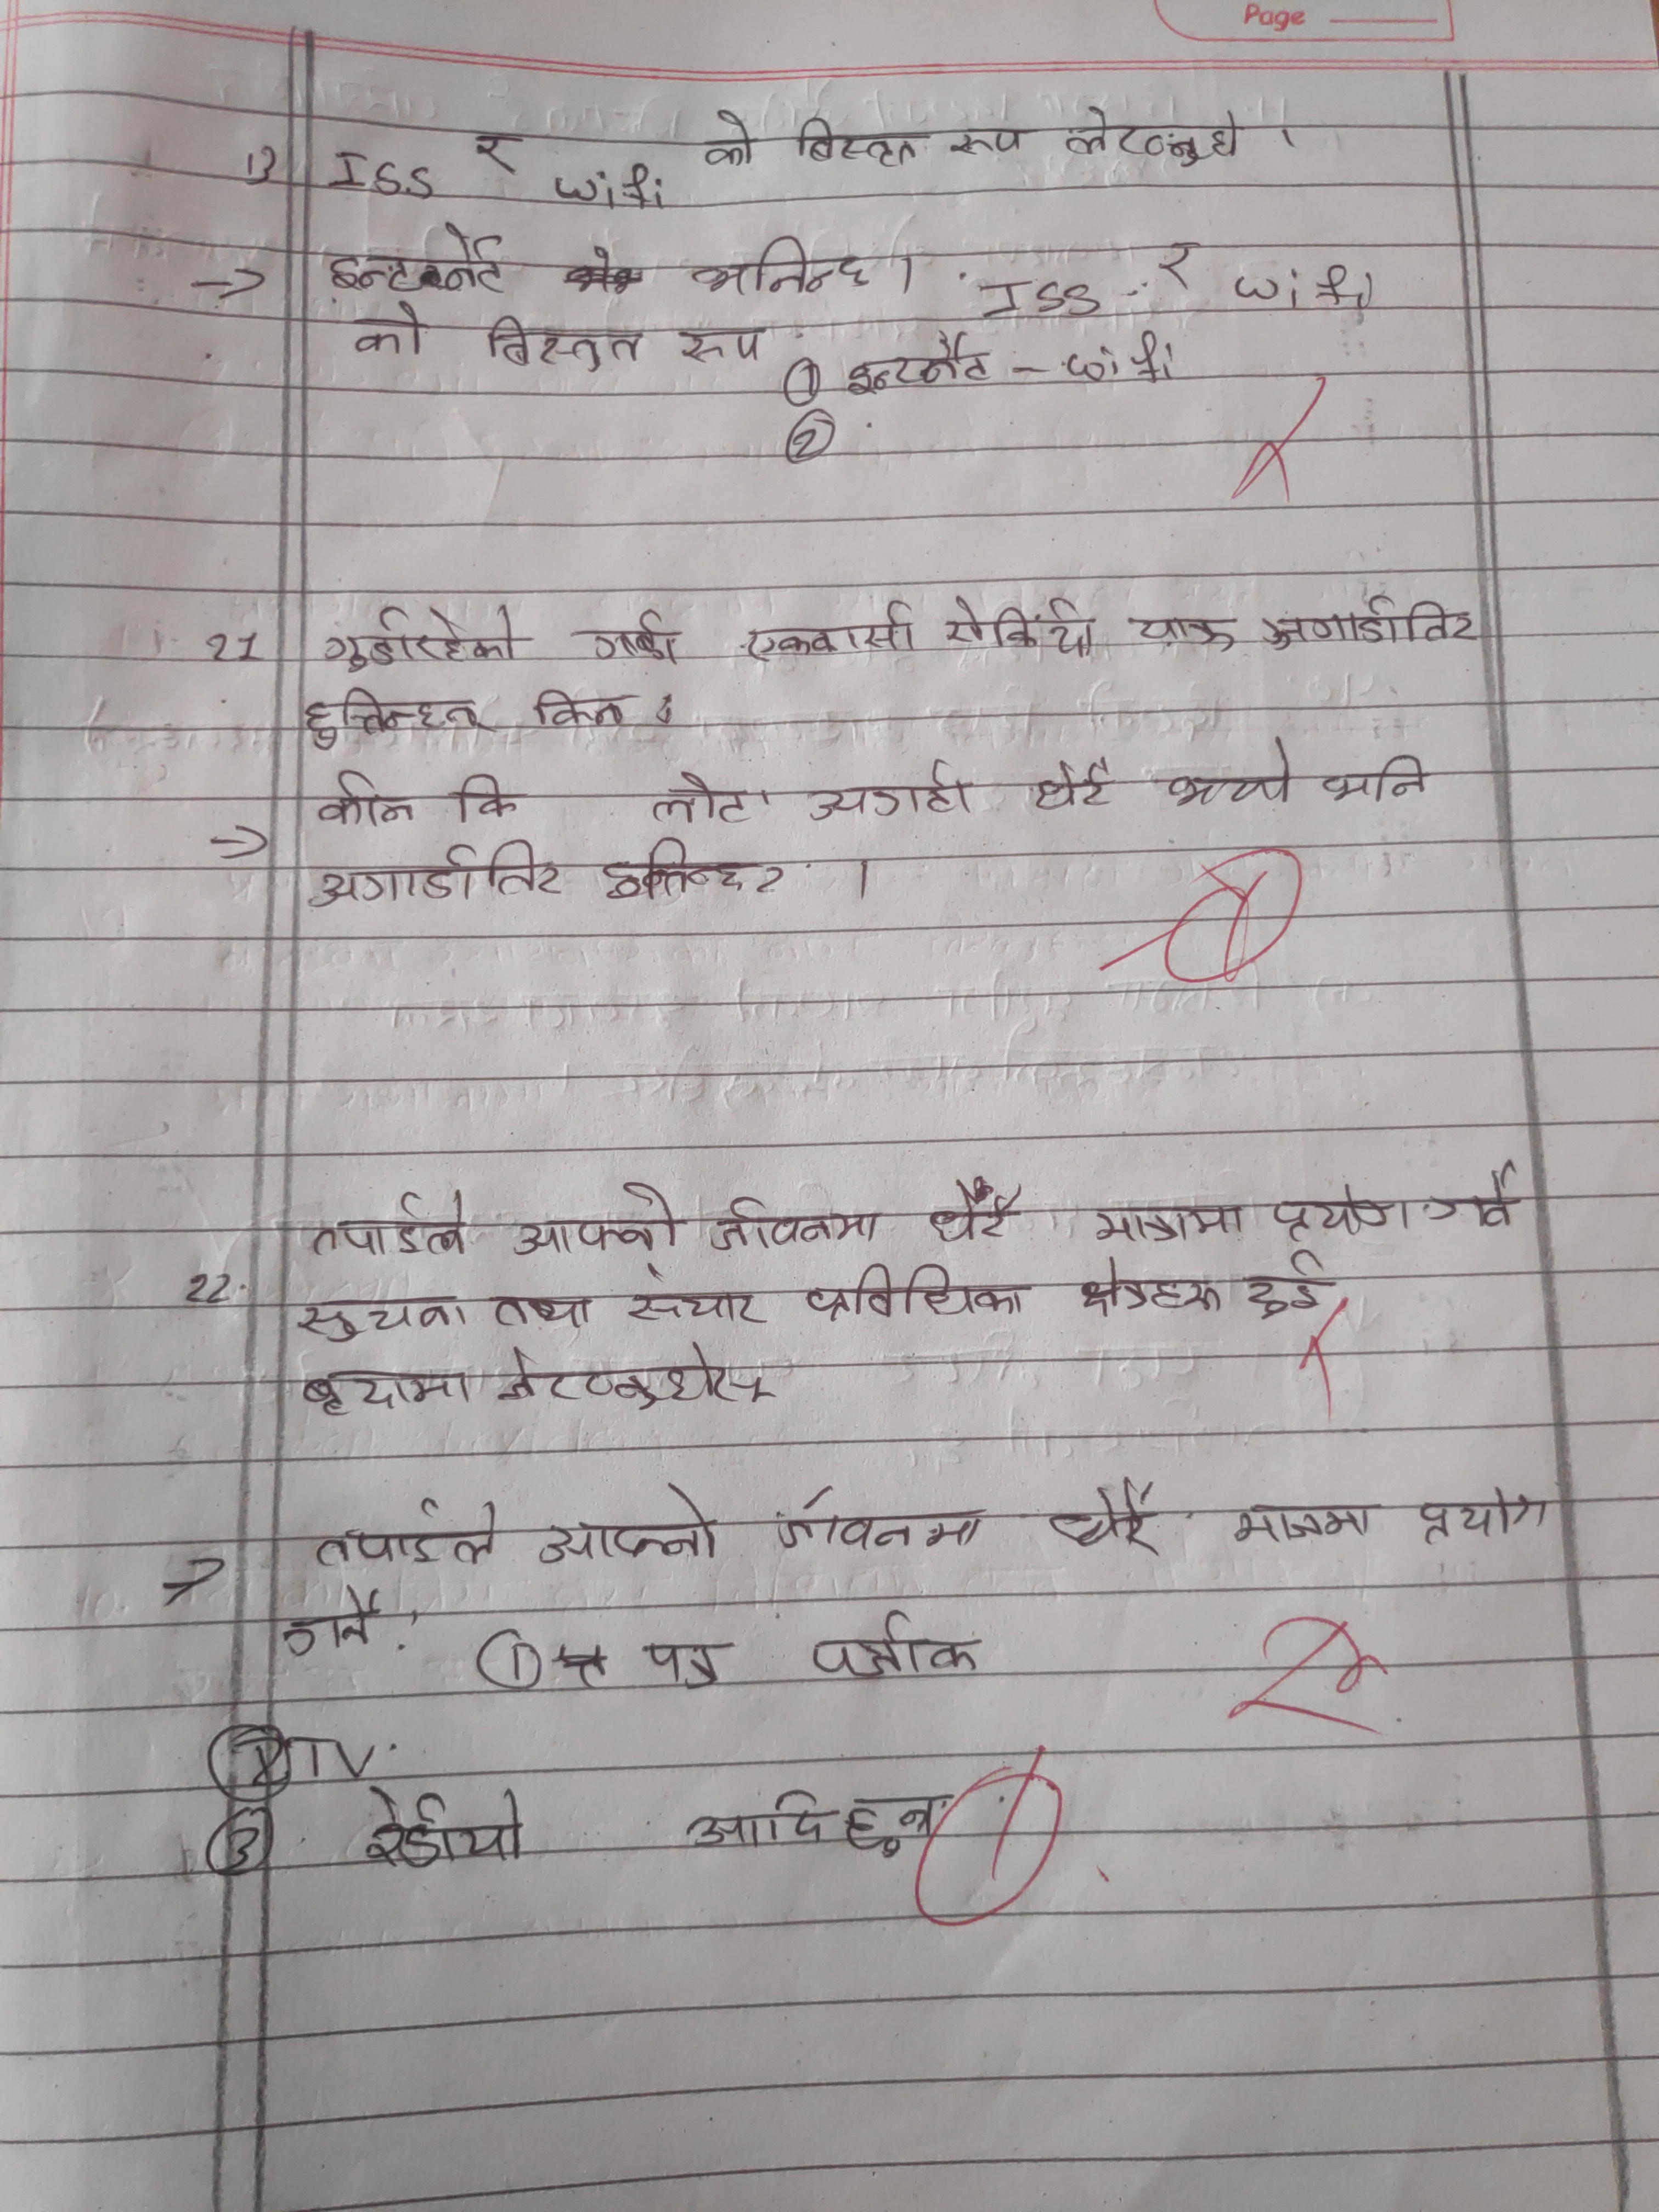text: (498, 1339, 775, 1409), (308, 840, 570, 909), (680, 1791, 945, 1855), (356, 1784, 537, 1876), (535, 1482, 723, 1568), (326, 218, 514, 301), (769, 1484, 988, 1555), (319, 604, 526, 676), (798, 1259, 1033, 1322), (516, 1179, 688, 1259), (312, 1494, 500, 1568), (305, 683, 497, 752), (810, 1608, 986, 1683), (805, 751, 979, 826), (1258, 594, 1486, 650), (687, 235, 875, 301), (1073, 1252, 1234, 1324), (308, 1190, 472, 1259), (739, 599, 920, 662), (939, 590, 1096, 660), (479, 307, 647, 371), (617, 1264, 775, 1329), (1060, 101, 1206, 171), (1166, 732, 1295, 810), (845, 333, 993, 401), (706, 1193, 885, 1249), (296, 1364, 477, 1418), (1046, 1479, 1162, 1562), (603, 833, 749, 899), (298, 1289, 469, 1345), (1265, 1181, 1413, 1242), (1415, 1482, 1551, 1545), (788, 113, 924, 174), (279, 1581, 387, 1658), (1422, 1158, 1525, 1237), (1086, 1200, 1253, 1245), (1229, 1500, 1378, 1545), (925, 1177, 1026, 1244), (579, 606, 683, 669), (1243, 1247, 1333, 1318), (648, 770, 756, 829), (315, 770, 422, 827), (1317, 752, 1431, 805), (340, 301, 437, 361), (528, 685, 634, 738), (1032, 756, 1117, 815), (636, 1641, 727, 1696), (1122, 611, 1239, 651), (486, 1289, 592, 1331), (695, 110, 763, 171), (669, 322, 770, 362), (451, 772, 519, 831), (460, 120, 523, 176), (945, 120, 1030, 157), (1211, 108, 1248, 162)
